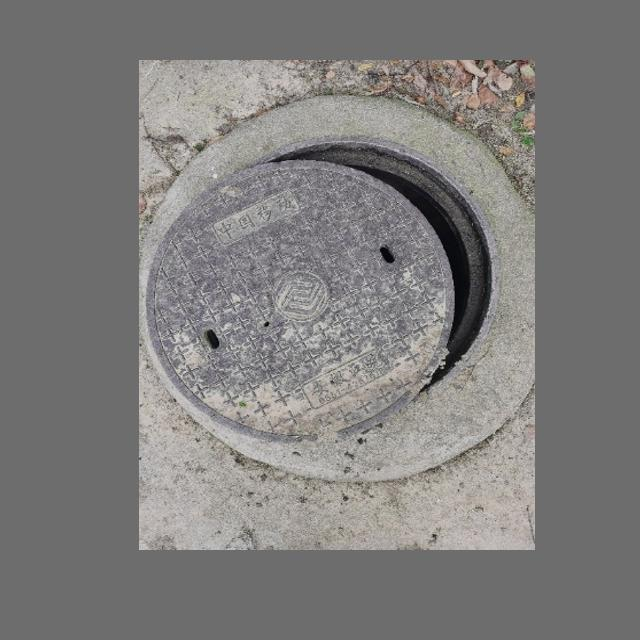uncovered: (145, 136, 500, 440)
